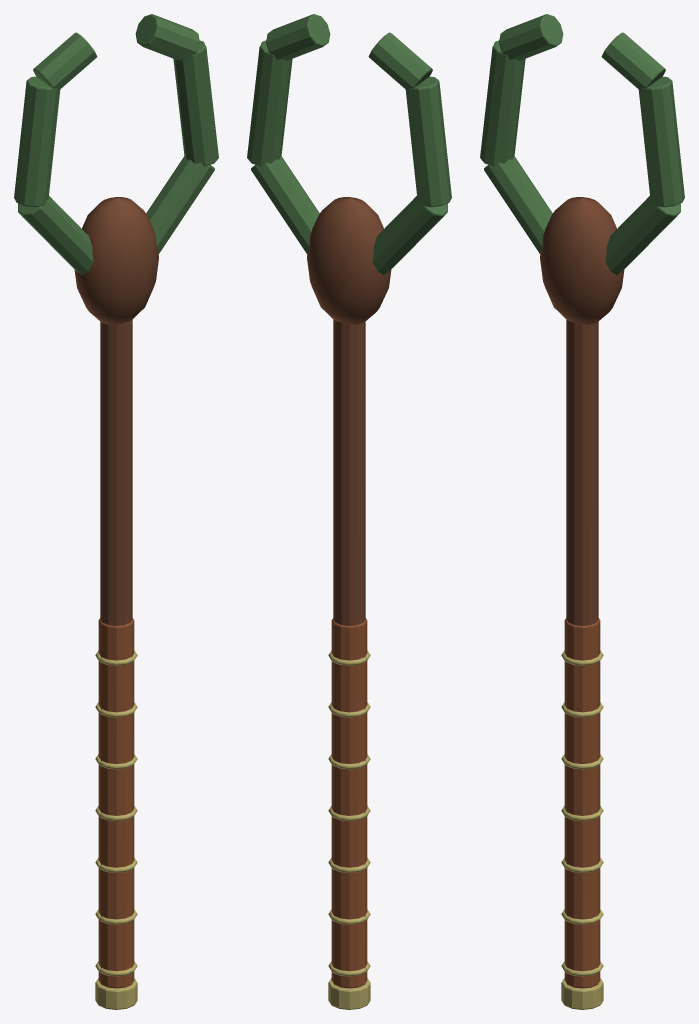
File: item_041.glb
The picture shows the model from 3 angles, left to right: view 1: azimuth 30°, elevation 25°; view 2: azimuth 150°, elevation 25°; view 3: azimuth 330°, elevation 25°; orthographic projection.
Parts seen in each view (by area): view 1: Item_041_pine_fork; view 2: Item_041_pine_fork; view 3: Item_041_pine_fork.
Boxes of the visible parts, x1,y1,x2,y2 form: Item_041_pine_fork: (14,14,218,1009); Item_041_pine_fork: (247,14,451,1009); Item_041_pine_fork: (480,14,684,1009).
Size of the model in its own units: 0.4687 by 2.18 by 0.15.
